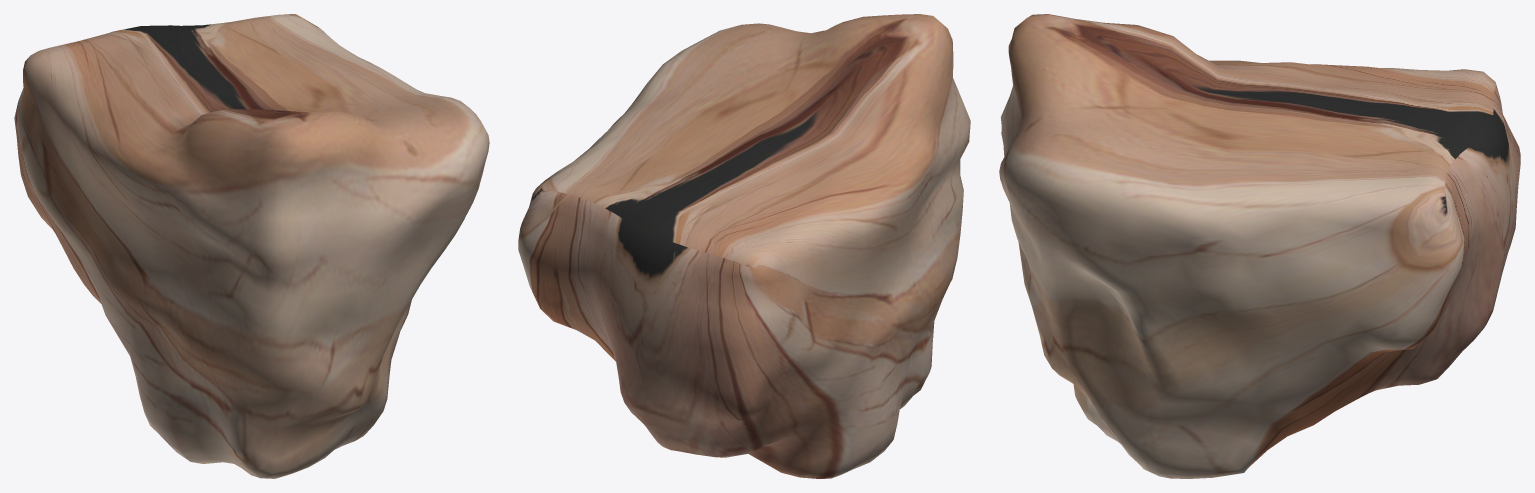
Rendered from rock-1.obj.
3 views of the same model, side by side, from view 1: azimuth 30°, elevation 25°; view 2: azimuth 150°, elevation 25°; view 3: azimuth 270°, elevation 25° (orthographic). The views are drawn at different scales.
Parts seen in each view (by area): view 1: Mesh_0; view 2: Mesh_0; view 3: Mesh_0.
Boxes of the visible parts, <box> form: Mesh_0: <box>14,14,489,478</box>; Mesh_0: <box>518,14,970,478</box>; Mesh_0: <box>999,14,1520,478</box>.
Bounding box in the file's own units: 0.6935 × 0.8466 × 1.
